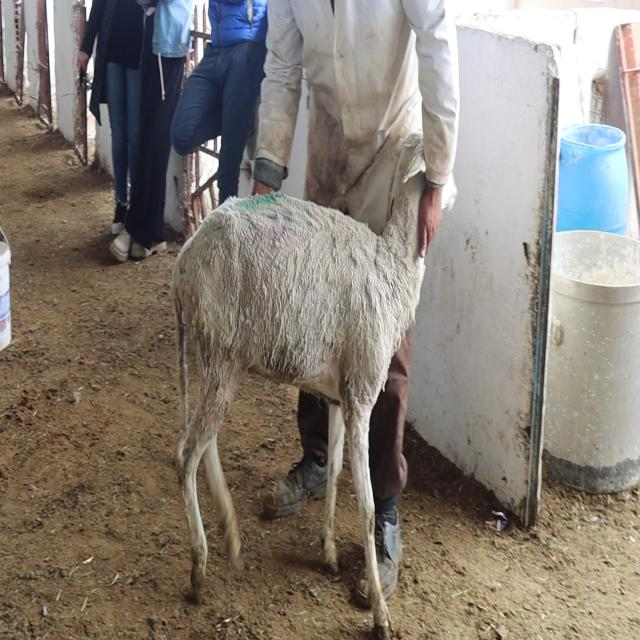Score_1: (171, 133, 425, 638)
